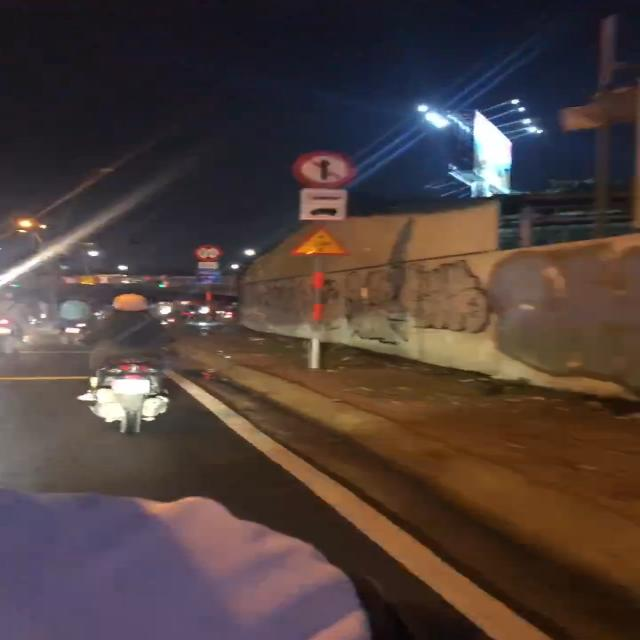Bien bao cam di thang: (289, 148, 359, 188)
